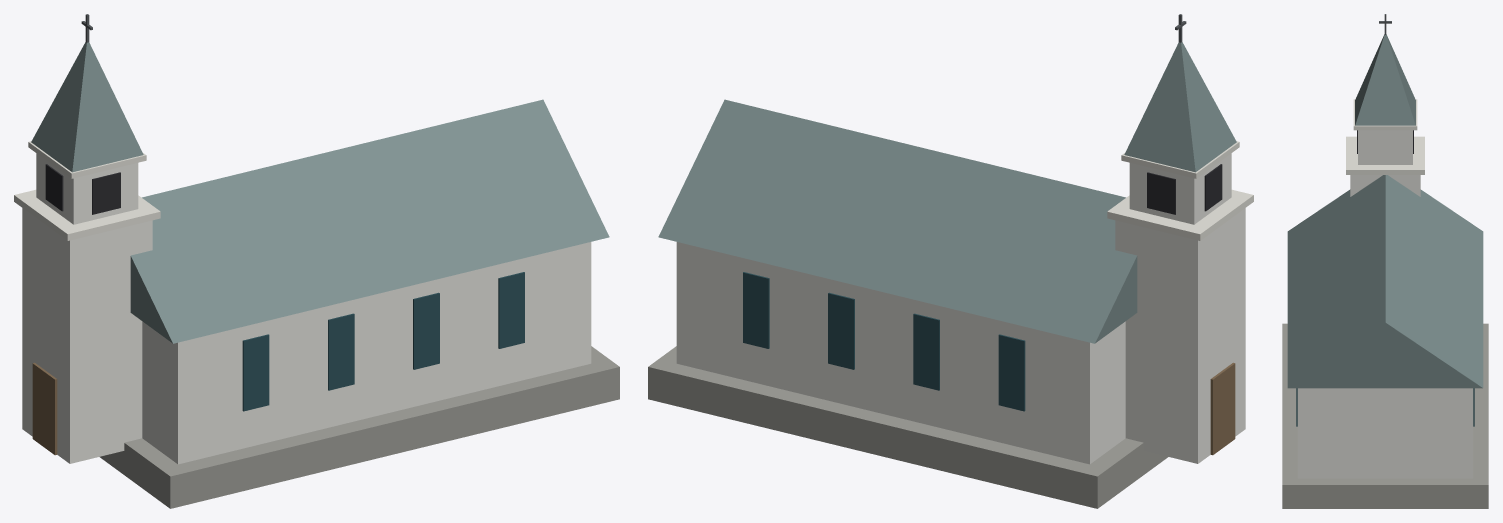
Rendered from village-church.glb.
The picture shows the model from 3 angles, left to right: view 1: azimuth 30°, elevation 25°; view 2: azimuth 150°, elevation 25°; view 3: azimuth 270°, elevation 25°; orthographic projection. The views are drawn at different scales.
Parts seen in each view (by area): view 1: village-church: Palm Bay white, village-church: Palm Bay roof, village-church: Palm Bay concrete, village-church: Palm Bay glass, village-church: Palm Bay trim, village-church: Palm Bay wood, village-church: Palm Bay dark; view 2: village-church: Palm Bay white, village-church: Palm Bay roof, village-church: Palm Bay concrete, village-church: Palm Bay glass, village-church: Palm Bay trim, village-church: Palm Bay wood, village-church: Palm Bay dark; view 3: village-church: Palm Bay roof, village-church: Palm Bay white, village-church: Palm Bay concrete, village-church: Palm Bay trim.
Part boxes in pixels (<box>): village-church: Palm Bay white: <box>22,153,591,464</box>; village-church: Palm Bay roof: <box>31,42,609,343</box>; village-church: Palm Bay concrete: <box>100,346,619,508</box>; village-church: Palm Bay glass: <box>242,272,524,411</box>; village-church: Palm Bay trim: <box>14,141,160,240</box>; village-church: Palm Bay wood: <box>32,362,57,455</box>; village-church: Palm Bay dark: <box>45,164,120,214</box>; village-church: Palm Bay white: <box>676,153,1245,464</box>; village-church: Palm Bay roof: <box>658,42,1236,343</box>; village-church: Palm Bay concrete: <box>648,346,1167,508</box>; village-church: Palm Bay glass: <box>743,272,1025,411</box>; village-church: Palm Bay trim: <box>1107,141,1253,240</box>; village-church: Palm Bay wood: <box>1210,362,1235,455</box>; village-church: Palm Bay dark: <box>1147,164,1222,214</box>; village-church: Palm Bay roof: <box>1287,34,1483,388</box>; village-church: Palm Bay white: <box>1297,130,1473,478</box>; village-church: Palm Bay concrete: <box>1282,323,1488,508</box>; village-church: Palm Bay trim: <box>1346,99,1424,174</box>.
Bounding box in the file's own units: 19.7 × 16.5 × 9.4.
